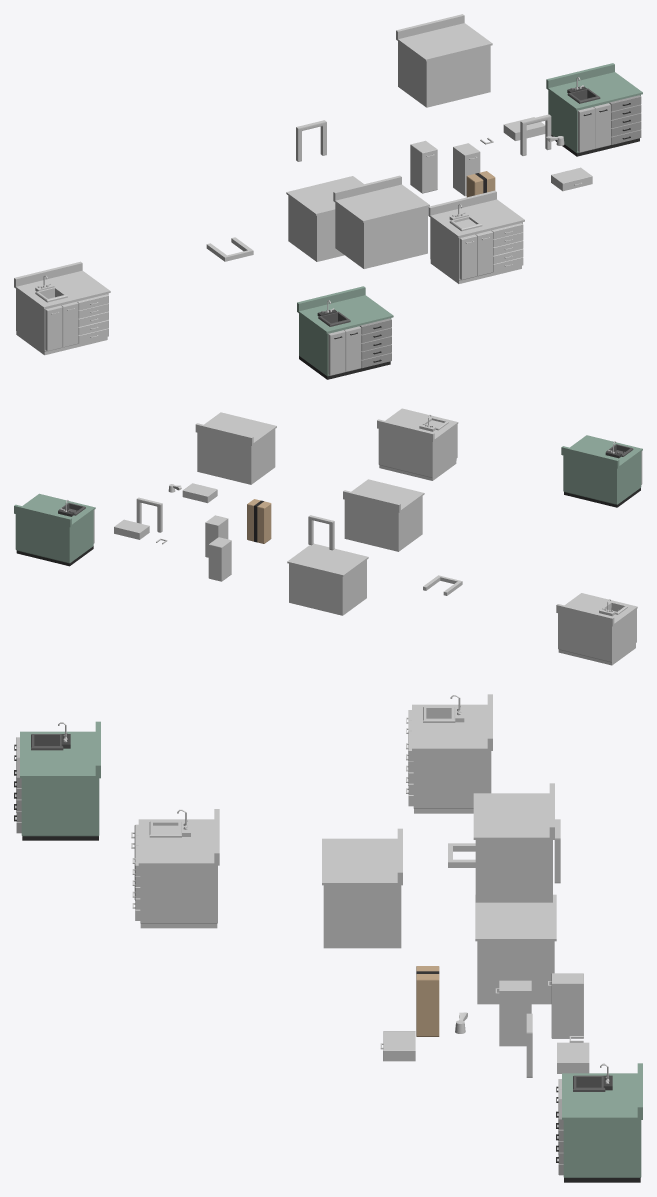
Rendered from drOfficeDeskSinkV1.fbx.
3 renders of one model, top to bottom at view 1: azimuth 30°, elevation 25°; view 2: azimuth 150°, elevation 25°; view 3: azimuth 270°, elevation 25°, orthographic. The views are drawn at different scales.
Parts seen in each view (by area): view 1: Cube.015, Cube.003, Cube.034, Cube.054, Cube.044, Cube.001, Cube.002, Cube.012, Cube.004, Cube.014, Cube.033, Cube.053 (+10 smaller); view 2: Cube.003, Cube.015, Cube.002, Cube.034, Cube.054, Cube.001, Cube.044, Cube, Cube.012, Cube.004, Cube.006, Cube.019 (+2 smaller); view 3: Cube.003, Cube.015, Cube.034, Cube.054, Cube.001, Cube.044, Cube.002, Cube.012, Cube.004, Cube, Cube.006, Cube.019.
Boxes of the visible parts, x1=… form: Cube.015: x1=396, y1=14, x2=492, y2=107; Cube.003: x1=333, y1=175, x2=429, y2=268; Cube.034: x1=428, y1=190, x2=524, y2=283; Cube.054: x1=297, y1=286, x2=393, y2=379; Cube.044: x1=14, y1=261, x2=110, y2=355; Cube.001: x1=546, y1=63, x2=642, y2=156; Cube.002: x1=286, y1=176, x2=363, y2=261; Cube.012: x1=410, y1=140, x2=437, y2=193; Cube.004: x1=453, y1=143, x2=480, y2=196; Cube.014: x1=577, y1=107, x2=595, y2=152; Cube.033: x1=459, y1=234, x2=477, y2=279; Cube.053: x1=328, y1=330, x2=345, y2=375; Cube.003: x1=343, y1=479, x2=424, y2=551; Cube.015: x1=195, y1=412, x2=276, y2=484; Cube.002: x1=287, y1=543, x2=368, y2=615; Cube.034: x1=377, y1=408, x2=458, y2=480; Cube.054: x1=561, y1=435, x2=642, y2=507; Cube.001: x1=14, y1=493, x2=95, y2=566; Cube.044: x1=556, y1=593, x2=637, y2=665; Cube: x1=247, y1=499, x2=271, y2=543; Cube.012: x1=208, y1=537, x2=231, y2=581; Cube.004: x1=205, y1=515, x2=228, y2=557; Cube.006: x1=114, y1=519, x2=149, y2=539; Cube.019: x1=182, y1=483, x2=217, y2=503; Cube.003: x1=322, y1=828, x2=402, y2=948; Cube.015: x1=473, y1=783, x2=554, y2=902; Cube.034: x1=138, y1=809, x2=219, y2=928; Cube.054: x1=20, y1=721, x2=100, y2=840; Cube.001: x1=562, y1=1063, x2=642, y2=1182; Cube.044: x1=412, y1=694, x2=492, y2=813; Cube.002: x1=475, y1=894, x2=556, y2=1004; Cube.012: x1=551, y1=973, x2=583, y2=1038; Cube.004: x1=499, y1=980, x2=531, y2=1046; Cube: x1=416, y1=966, x2=439, y2=1036; Cube.006: x1=557, y1=1042, x2=589, y2=1073; Cube.019: x1=383, y1=1031, x2=415, y2=1061.
Size of the model in its own units: 6346 by 1747 by 3896.
